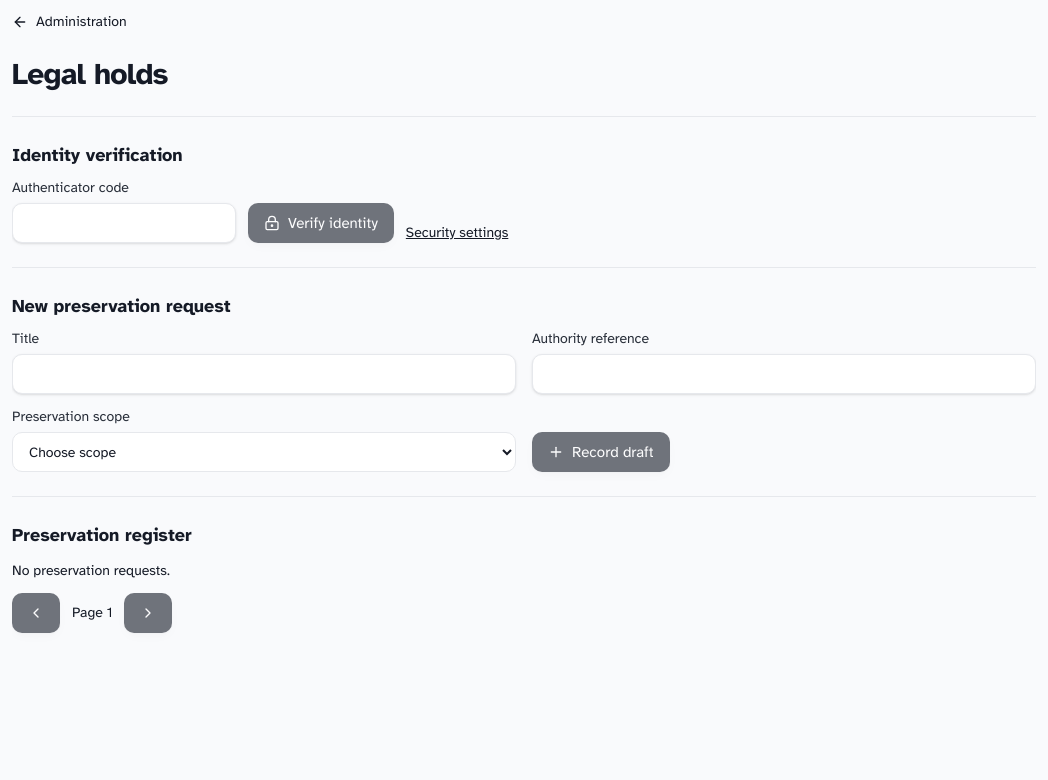
Test: Legal hold commands › records a draft with server-owned scope and keeps success free of errors
The image size is (1048, 780).
In the field labelled "Title": (264, 374) top-left (12, 354), bottom-right (516, 394), type "Synthetic preservation"
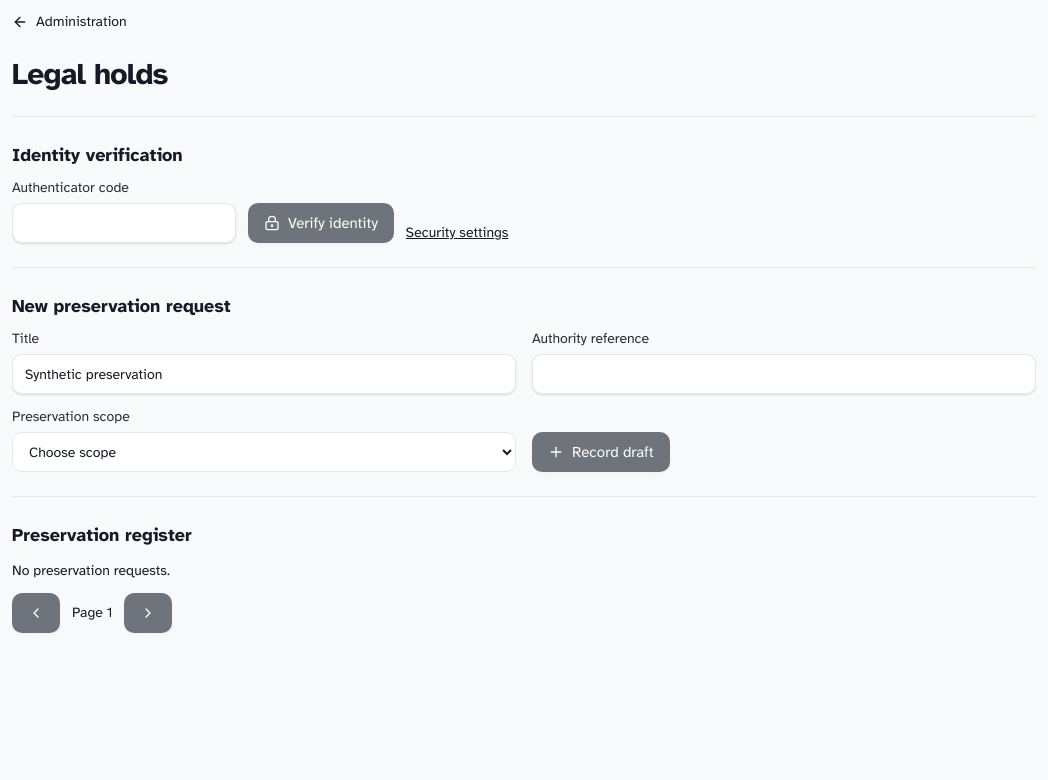
In the field labelled "Authority reference": (784, 374) top-left (532, 354), bottom-right (1036, 394), type "fixture://authority"
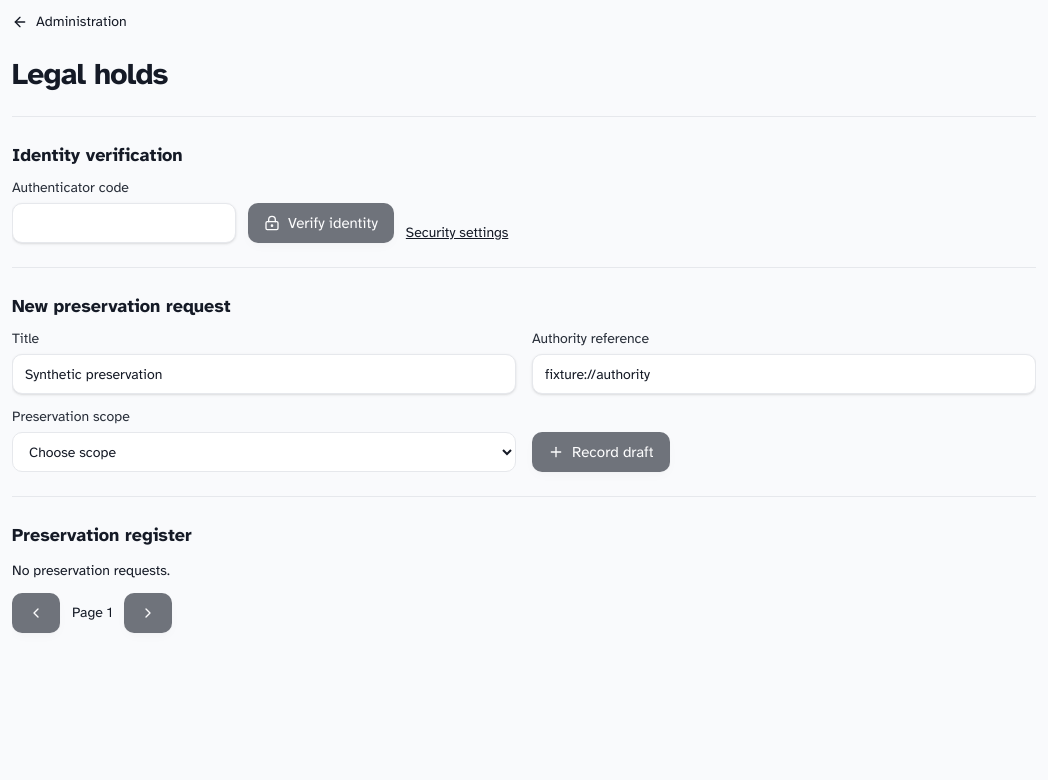
Select "Preservation records" in the dropdown labelled "Preservation scope": (264, 452) top-left (12, 432), bottom-right (516, 472)
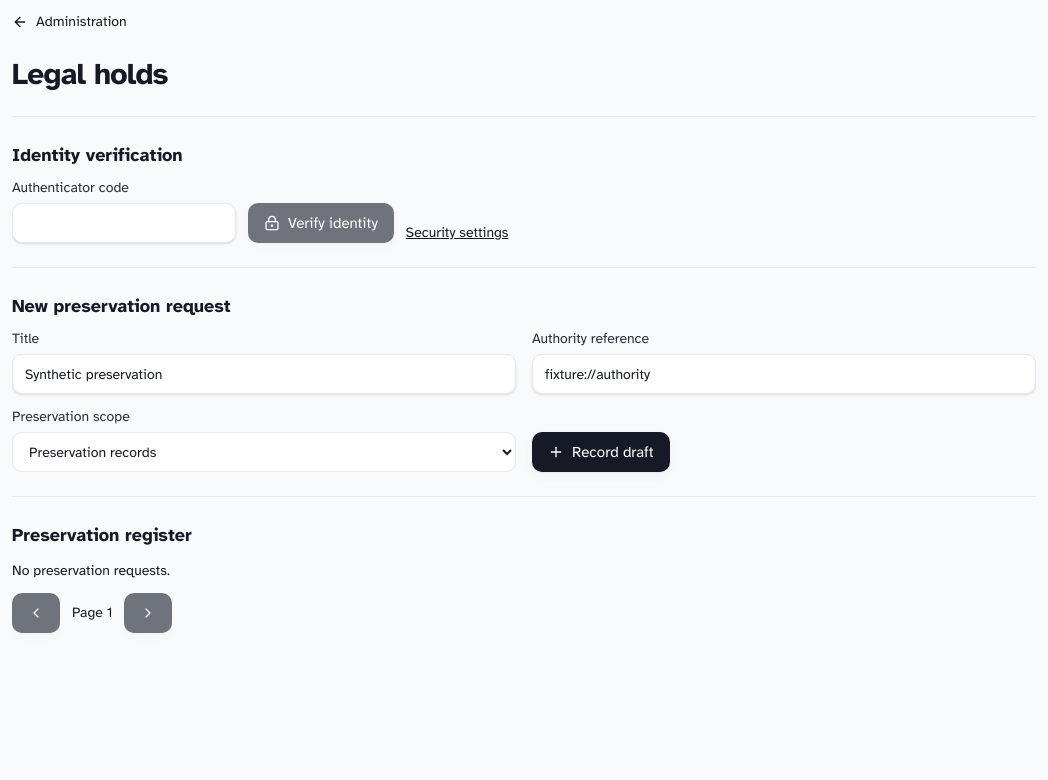
Click the button "Record draft": (601, 452) top-left (532, 432), bottom-right (670, 472)
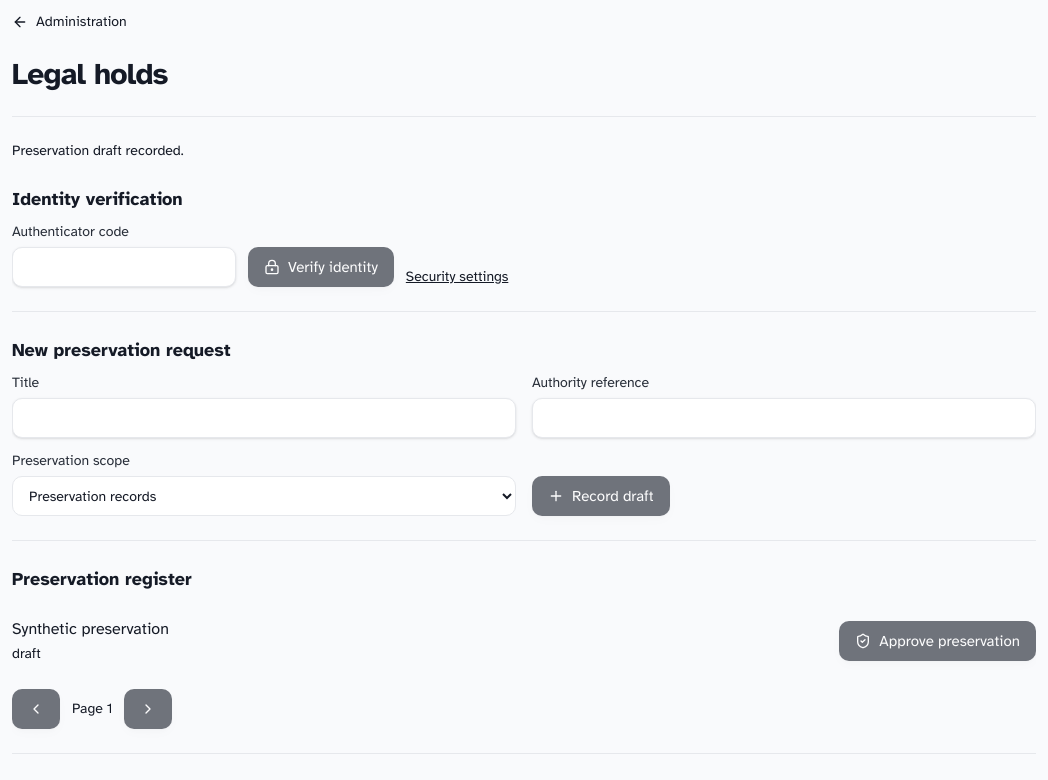
Expected: the text "Preservation draft recorded." is shown, top-left (12, 142), bottom-right (184, 159)
Expected: the button "Approve preservation" is disabled, top-left (839, 621), bottom-right (1036, 661)
Expected: the field labelled "Title" is empty, top-left (12, 398), bottom-right (516, 438)
